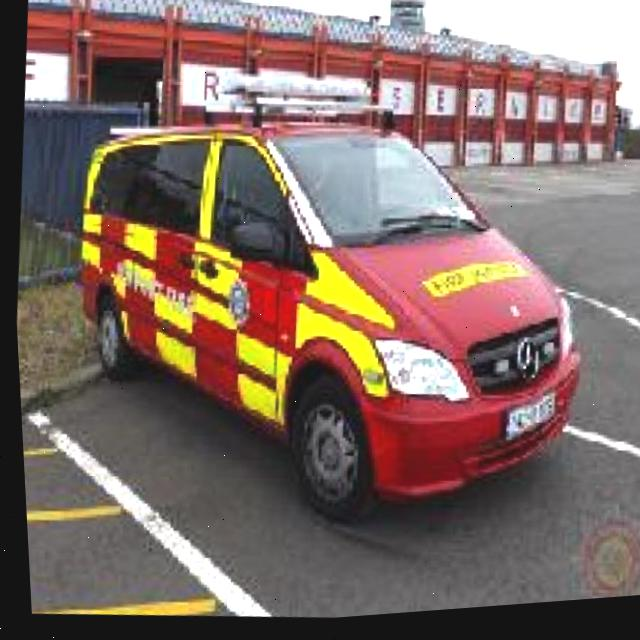emergency: (43, 89, 605, 565)
